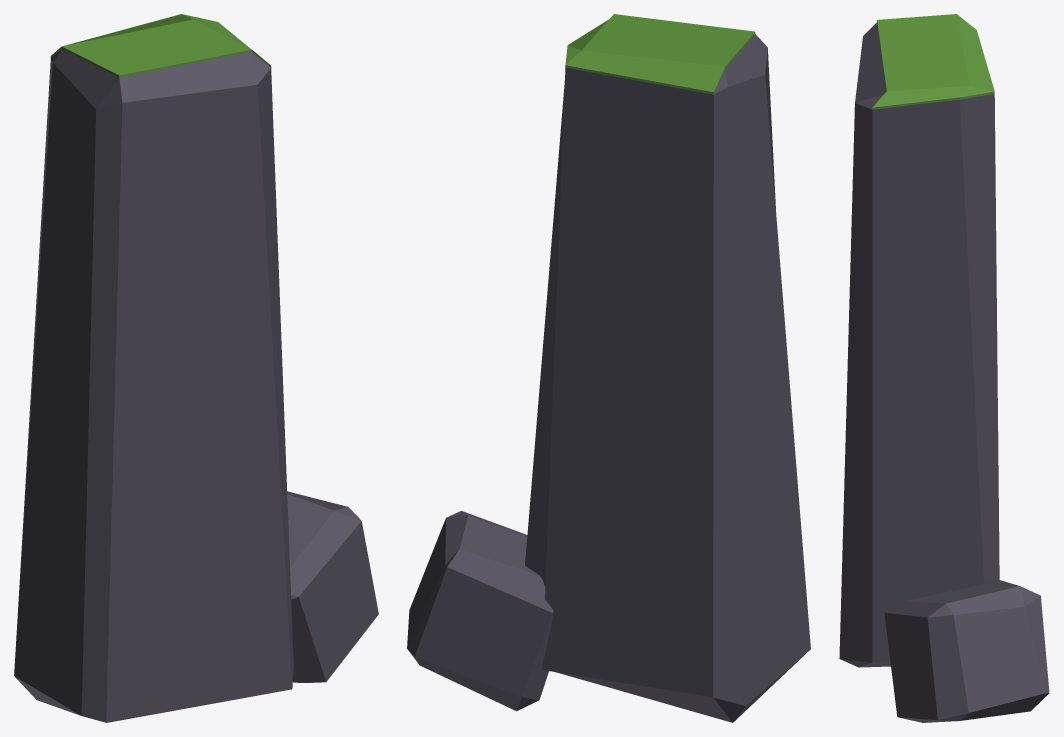
The model's file is BossStone2.fbx.
3 renders of one model, left to right at view 1: azimuth 30°, elevation 25°; view 2: azimuth 150°, elevation 25°; view 3: azimuth 270°, elevation 25°, orthographic. The views are drawn at different scales.
Visible parts, largest first — view 1: Stone, Chunk, Moss; view 2: Stone, Chunk, Moss; view 3: Stone, Chunk, Moss.
Boxes of the visible parts, x1,y1,x2,y2 form: Stone: [14, 49, 293, 722]; Chunk: [287, 491, 378, 682]; Moss: [50, 14, 271, 77]; Stone: [525, 34, 810, 722]; Chunk: [407, 511, 553, 711]; Moss: [565, 14, 755, 94]; Stone: [839, 22, 999, 667]; Chunk: [884, 577, 1049, 722]; Moss: [872, 14, 994, 109].
Bounding box in the file's own units: 4.55 × 8.54 × 2.64.
